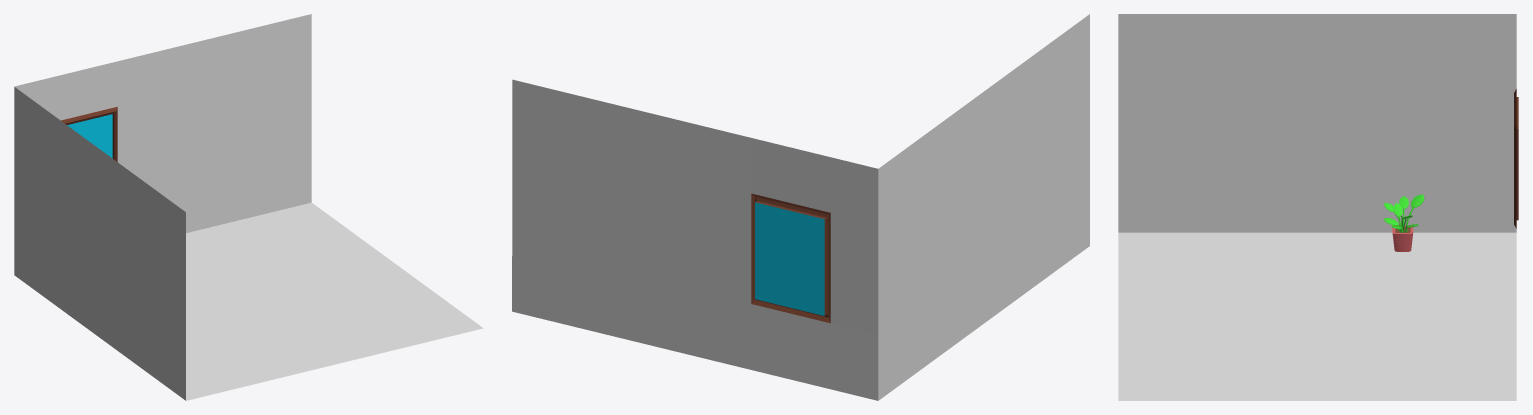
File: Houseplant.fbx
3 renders of one model, left to right at view 1: azimuth 30°, elevation 25°; view 2: azimuth 150°, elevation 25°; view 3: azimuth 270°, elevation 25°, orthographic. The views are drawn at different scales.
Visible parts, largest first — view 1: Plane; view 2: Plane; view 3: Plane, Cube.018.
Boxes of the visible parts, x1,y1,x2,y2 form: Plane: [14, 14, 483, 400]; Plane: [512, 14, 1089, 400]; Plane: [1118, 14, 1518, 400]; Cube.018: [1392, 225, 1413, 251].
Bounding box in the file's own units: 1242 × 752 × 1248.
